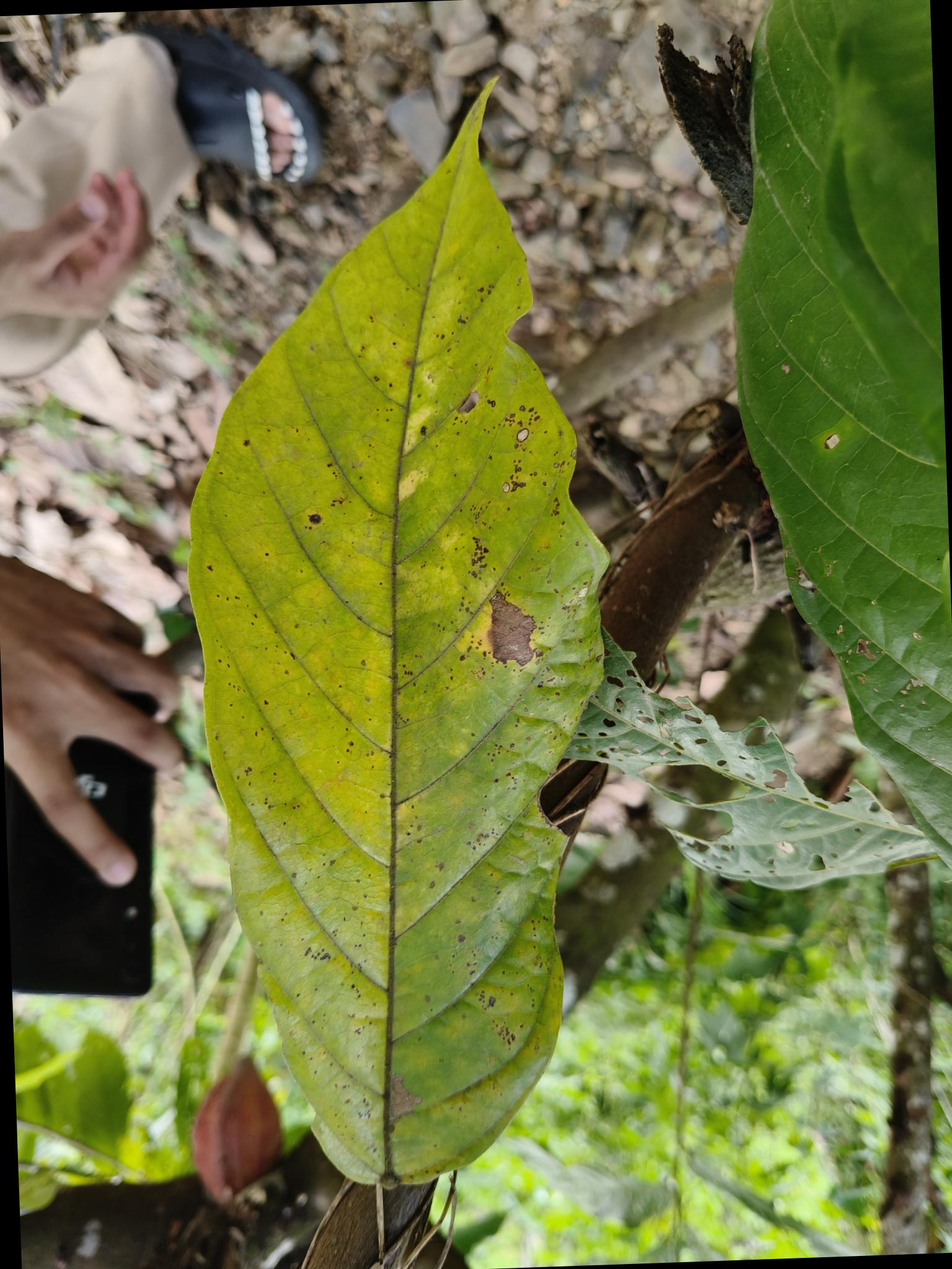Fosforo: (170, 82, 603, 1219)
